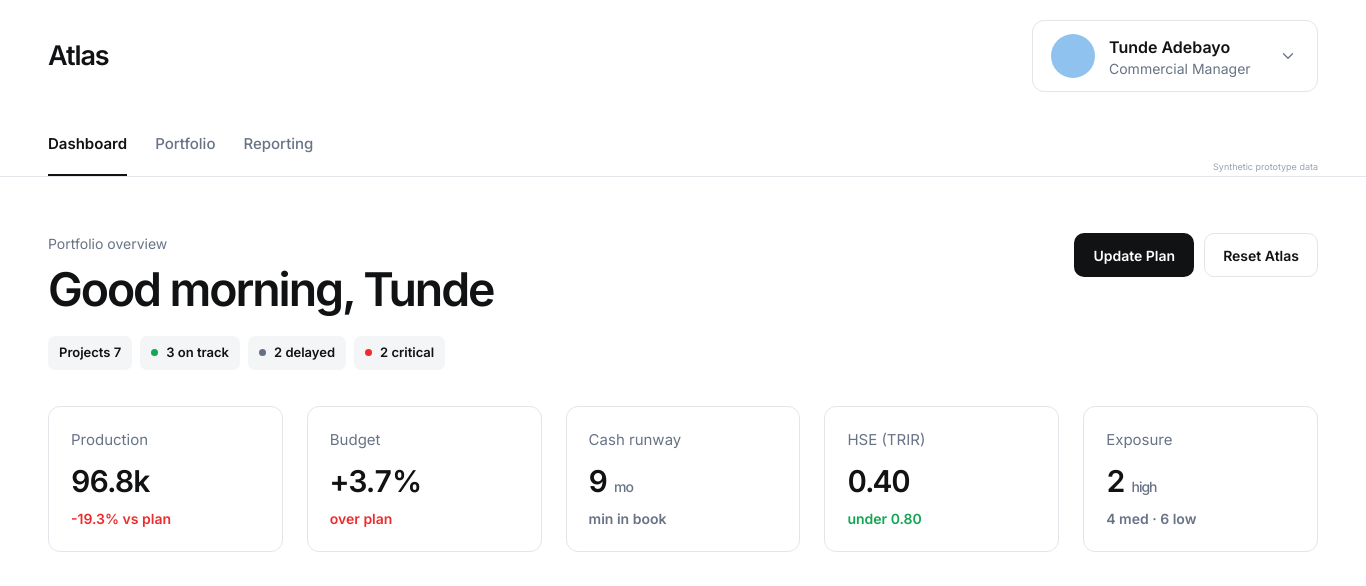
Test case: route architecture › limits CEO and CFO navigation to Dashboard and the shared View Updates workspace
The image size is (1366, 586).
Select "Chief Executive Officer" in the dropdown named "Active demo persona": (1175, 56) x1=1032 y1=20 x2=1318 y2=92
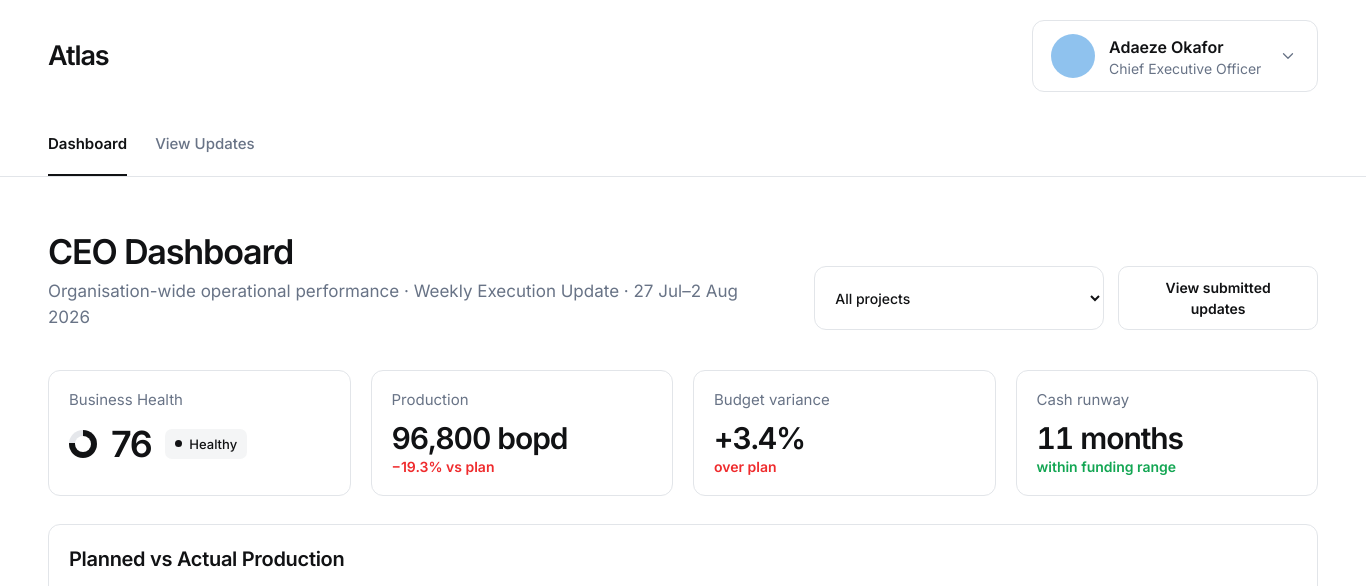
Expected: the number of links is 2
Expected: the navigation bar named "Executive navigation" reads "Dashboard View Updates", x1=48 y1=134 x2=255 y2=153
Click the link "View Updates": (205, 143) x1=155 y1=134 x2=254 y2=153
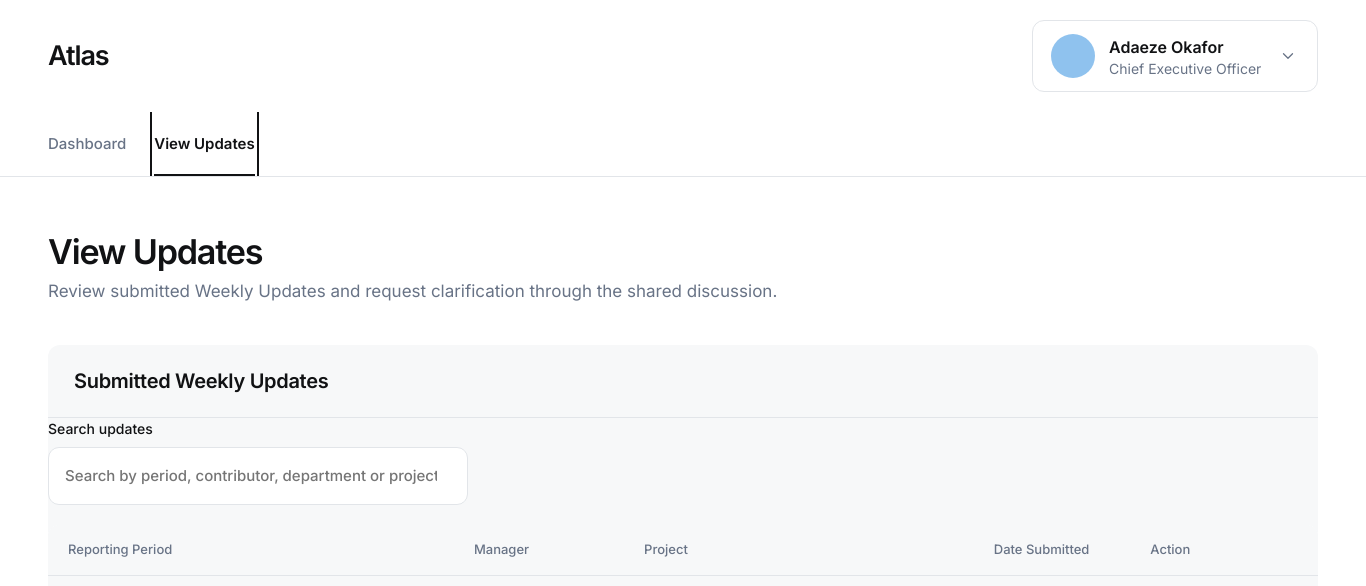
Expected: the heading "View Updates" is shown, x1=48 y1=231 x2=262 y2=272
